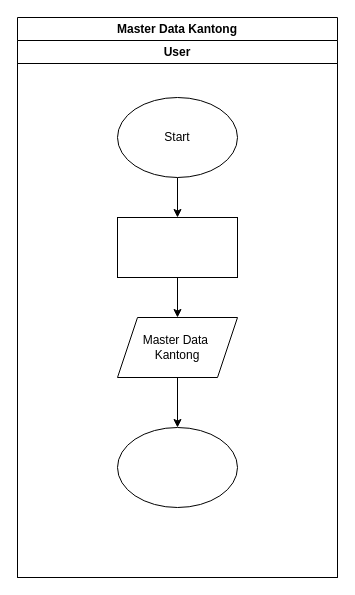
The diagram is 355 pixels wide and 595 high, and some of its shapes have lost their labels. The centre of each missing label's shape, as x and y in pixels:
"Create Master Data Kantong" belongs at (x=177, y=247).
"End" belongs at (x=177, y=467).
